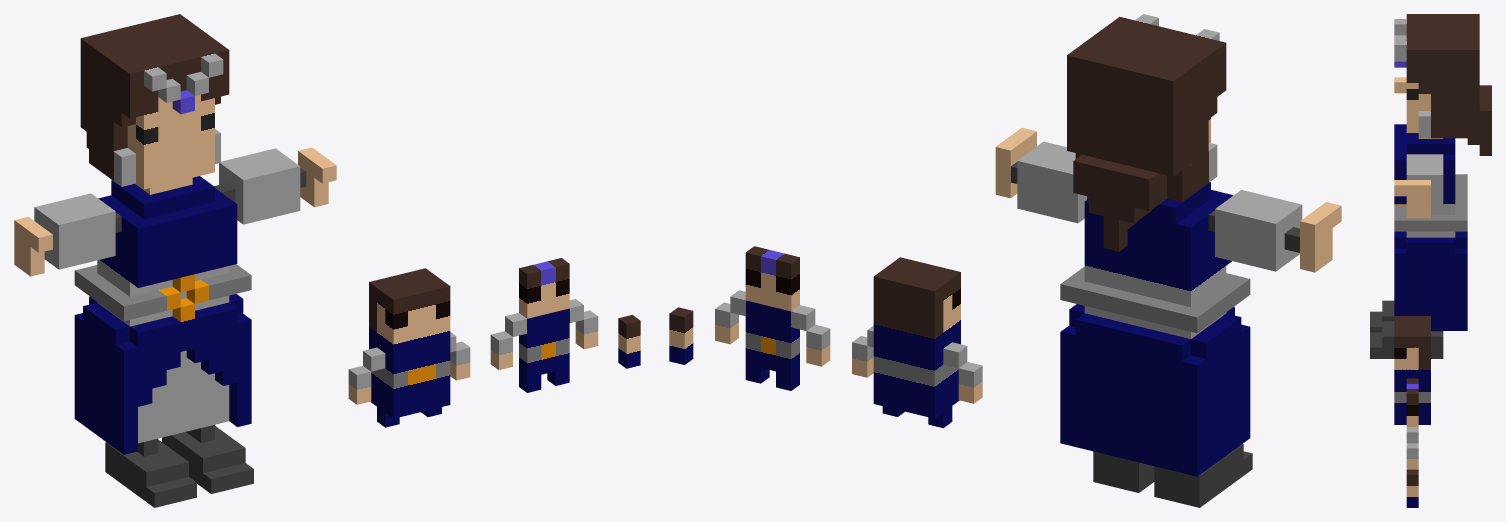
Rendered from moiraine.glb.
3 renders of one model, left to right at view 1: azimuth 30°, elevation 25°; view 2: azimuth 150°, elevation 25°; view 3: azimuth 270°, elevation 25°, orthographic. The views are drawn at different scales.
Visible parts, largest first — view 1: pl0; view 2: pl0; view 3: pl0.
Boxes of the visible parts, bbox=[...] form: pl0: bbox=[14, 14, 640, 507]; pl0: bbox=[669, 14, 1341, 507]; pl0: bbox=[1370, 14, 1491, 507].
Size of the model in its own units: 43 by 28 by 10.
Materials: 1 (1 with a texture image).
